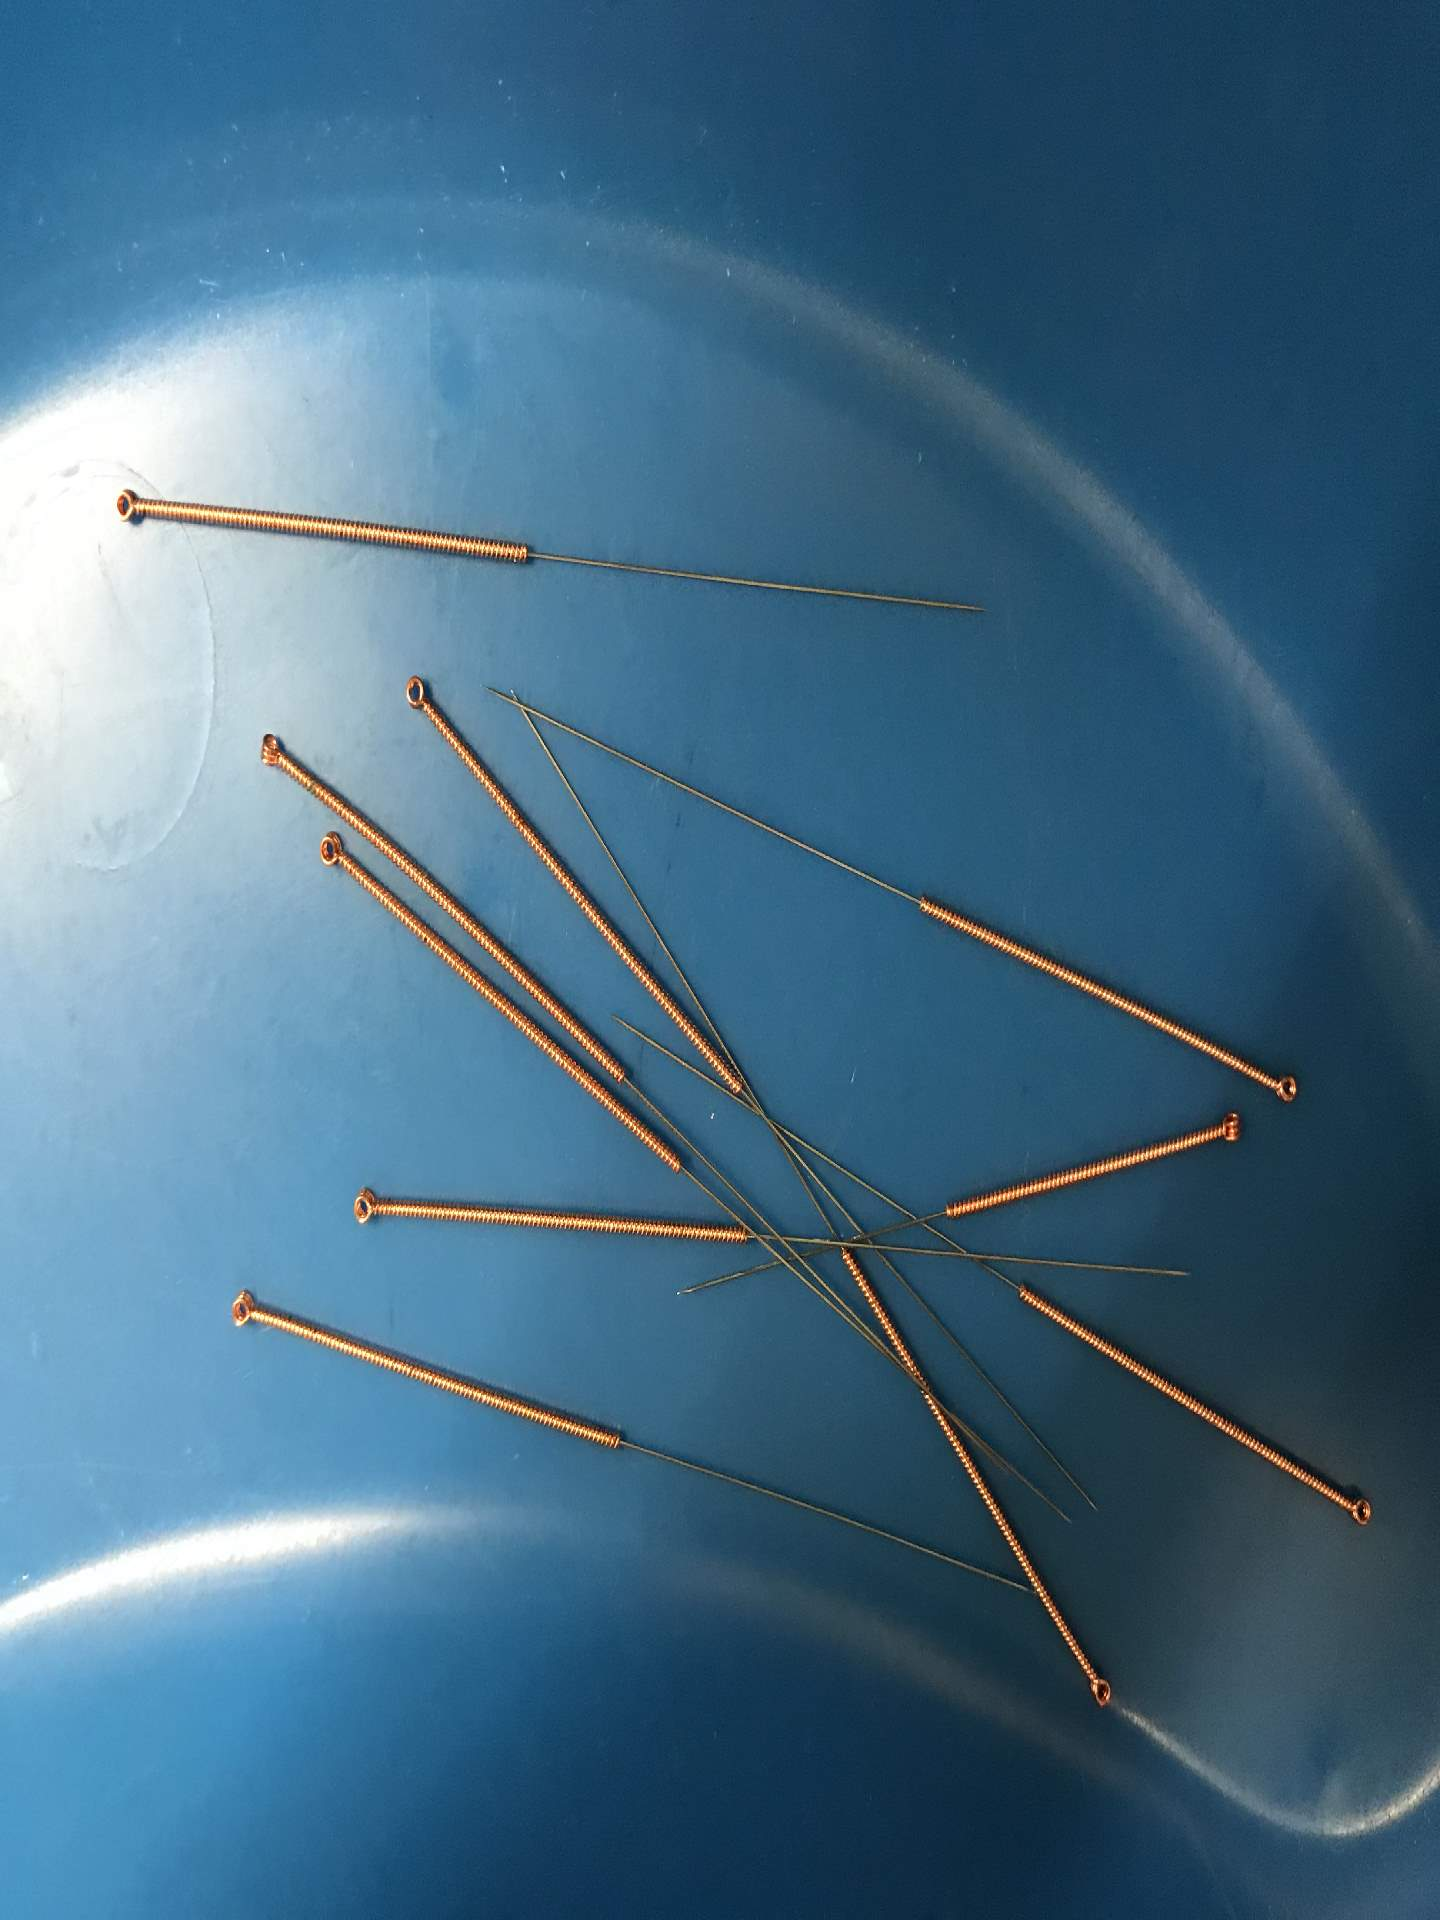needle: (101, 475, 160, 541), (216, 1281, 268, 1341), (390, 662, 439, 726), (1203, 1101, 1254, 1157), (248, 723, 293, 779), (343, 1179, 389, 1235), (304, 827, 355, 875), (1075, 1661, 1122, 1714), (1334, 1485, 1379, 1539), (1262, 1064, 1307, 1116)
